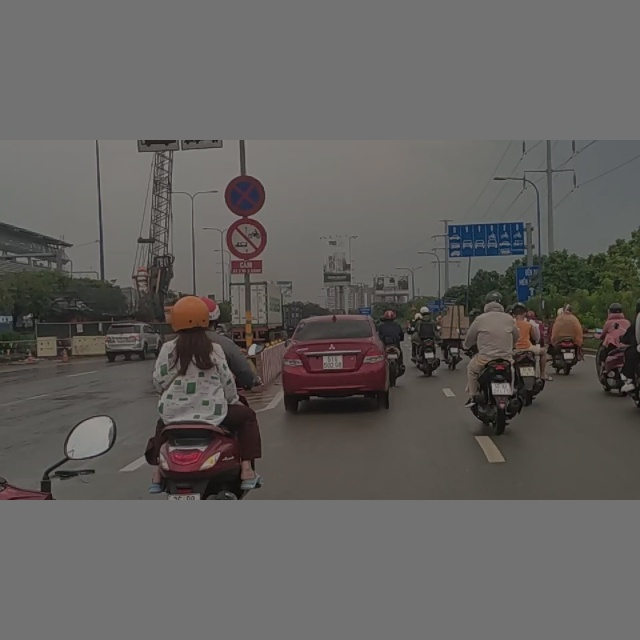P.106a*Xe tai: (226, 218, 266, 259)
P.111: (226, 218, 267, 259)
P.130: (225, 176, 264, 215)
